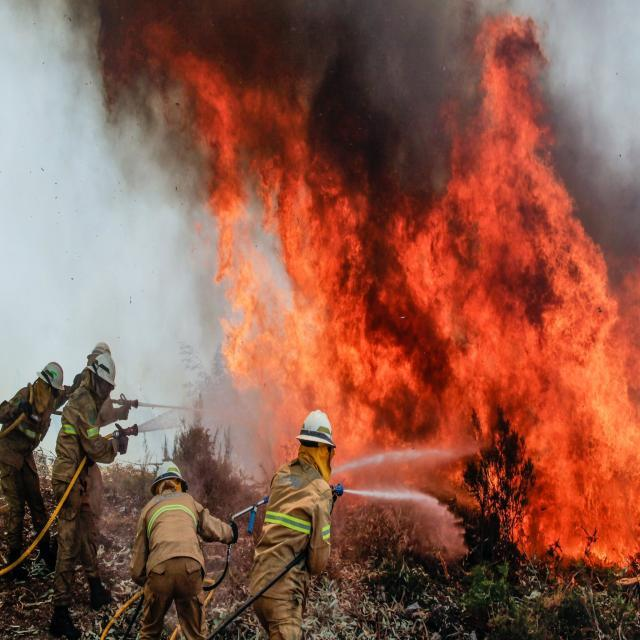Fire: (129, 15, 640, 575)
Smoke: (6, 1, 640, 292)
